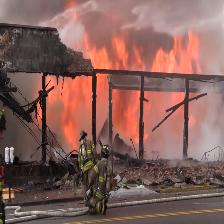fire: (95, 54, 200, 69)
smoke: (155, 2, 212, 31), (195, 100, 219, 152)
